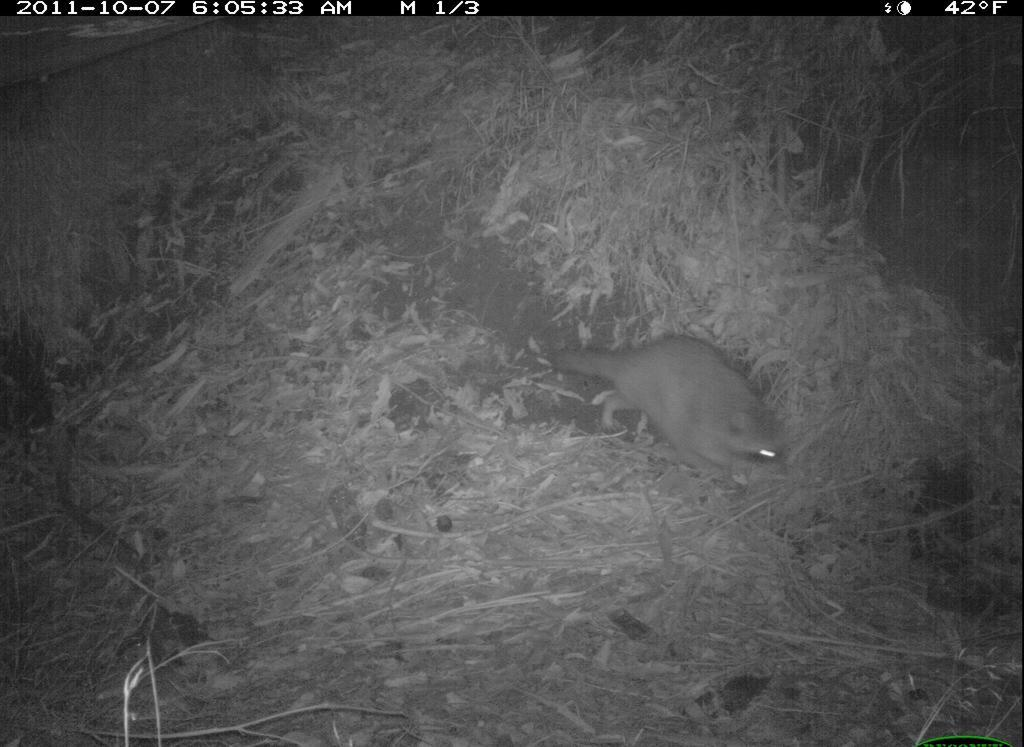raccoon: (537, 322, 811, 502)
